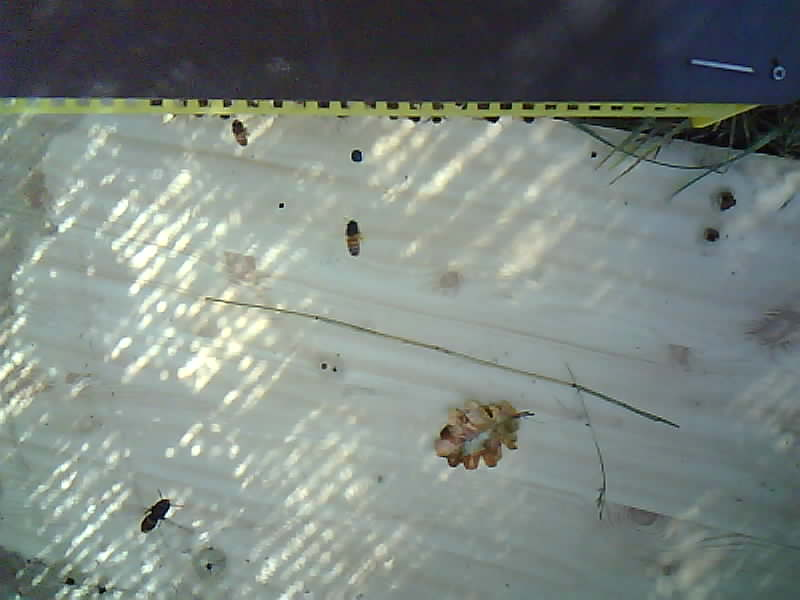bee: (343, 214, 363, 256), (230, 116, 252, 149)
hornet: (133, 492, 182, 538)
